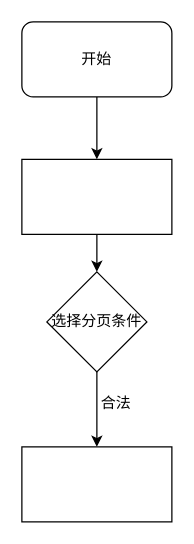
This 194x544 diagram has some shape labels left out. The centre of each missing label's shape, as x and y in pixels:
分页显示查询结果: the point at 96,484
显示选择的团检订单获取体检参与人员列表: the point at 96,196
